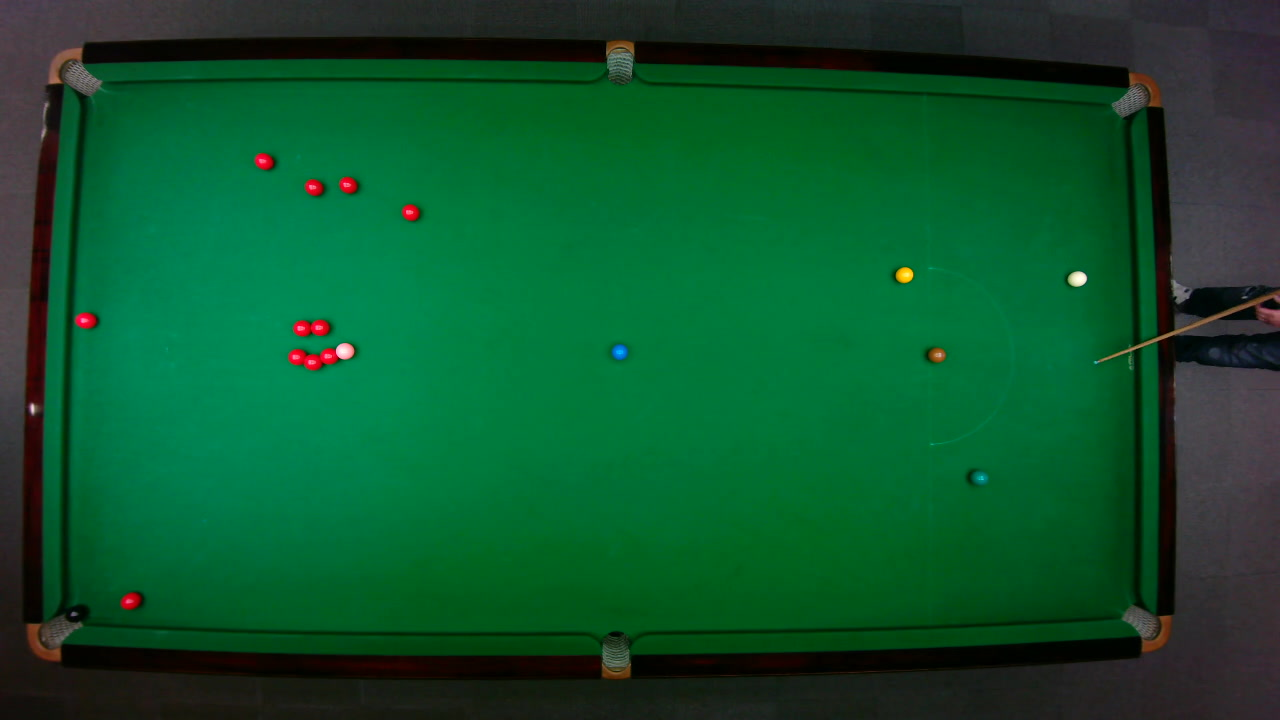bag: (25, 609, 83, 661), (45, 46, 102, 96), (1119, 603, 1172, 652), (1108, 71, 1162, 118), (600, 629, 630, 680), (605, 38, 633, 85)
black: (64, 605, 85, 622)
blue: (610, 342, 628, 360)
brown: (926, 346, 946, 362)
cue: (1091, 289, 1273, 364)
green: (968, 468, 989, 485)
pink: (334, 341, 355, 360)
red: (118, 590, 142, 610), (73, 310, 97, 329), (303, 177, 324, 196), (253, 151, 274, 170), (308, 317, 330, 335), (301, 352, 323, 370), (400, 202, 420, 221), (286, 347, 306, 366), (290, 318, 311, 336), (337, 175, 358, 193), (318, 346, 337, 365)
white: (1066, 269, 1087, 286)
yellow: (894, 265, 914, 283)
zone: (926, 265, 1014, 445)
